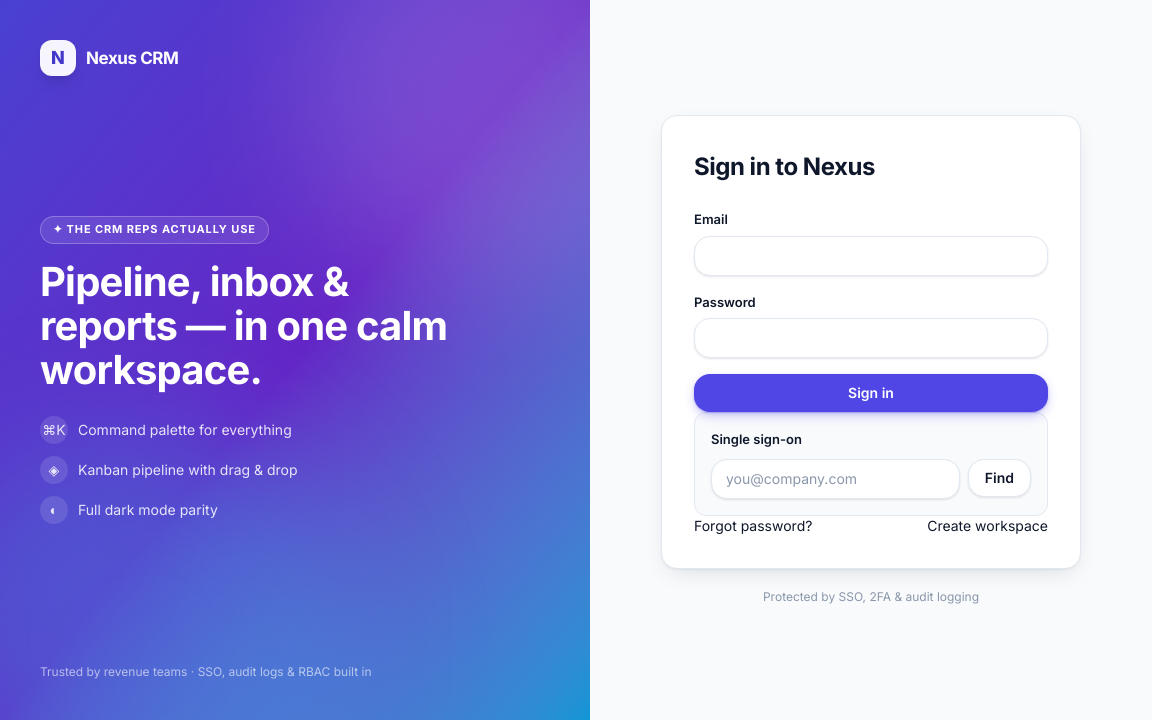
Test: login page › offers workspace choice on MULTIPLE_ORGS
Type "a@b.co" into the field labelled "Email" at coordinates (871, 256), box [694,236,1048,276]
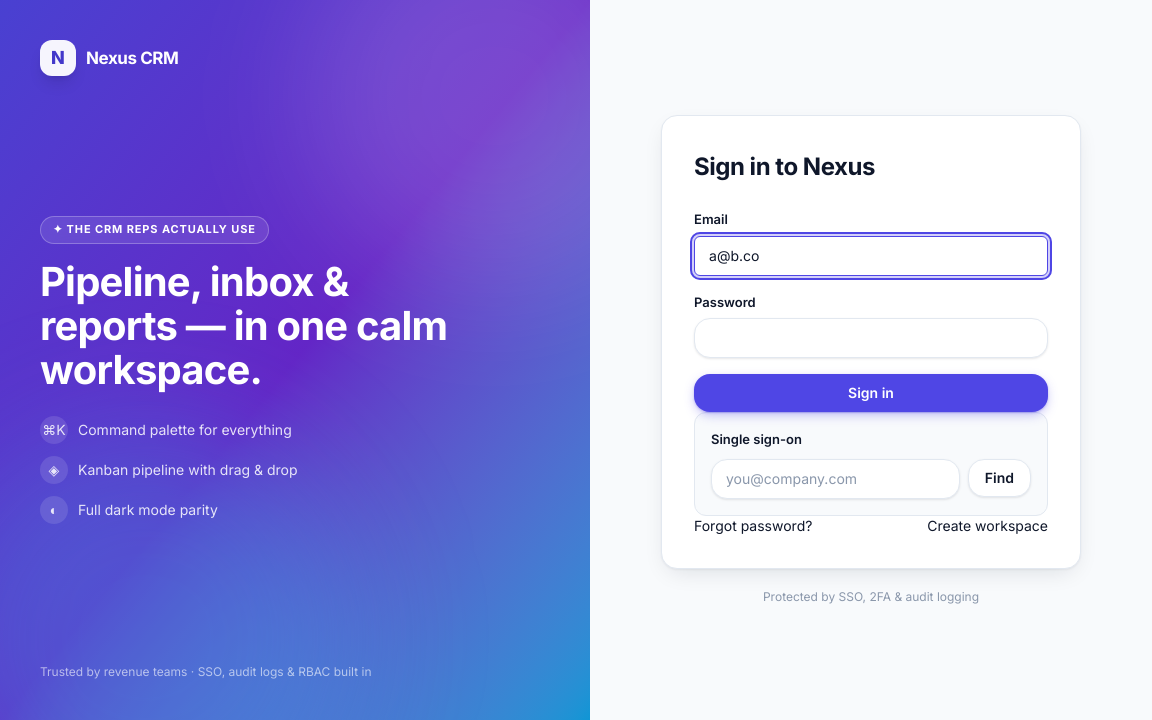
Type "correct-horse-12" into the password field labelled "Password" at coordinates (871, 338), box [694,318,1048,358]
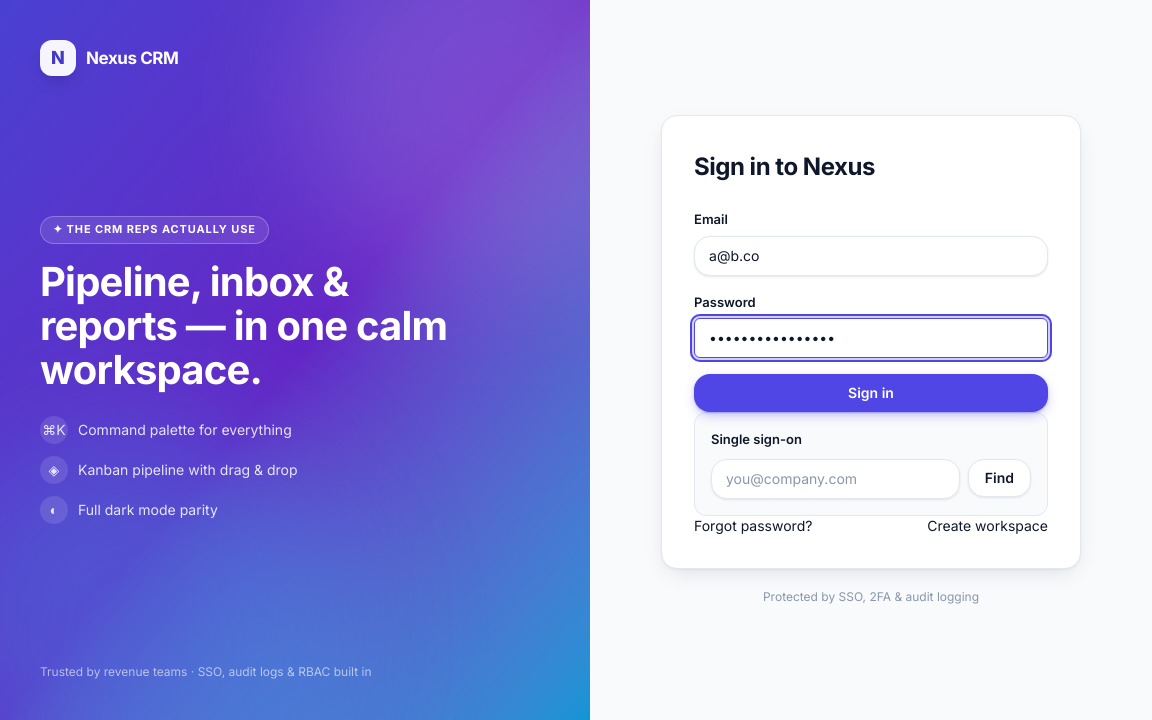
Click the button "Sign in" at coordinates (871, 393), box [694,374,1048,412]
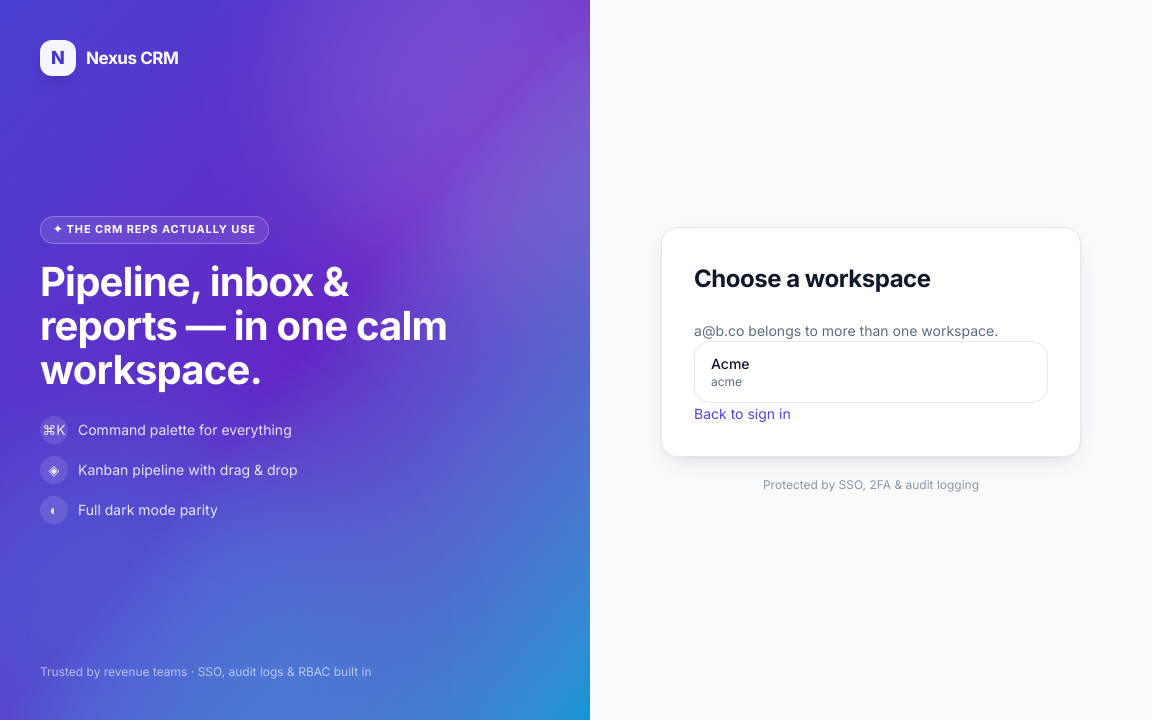
Check: the text "Acme" is shown, box [711,355,750,372]
